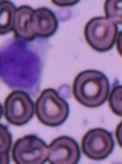L: (0, 37, 44, 91)
